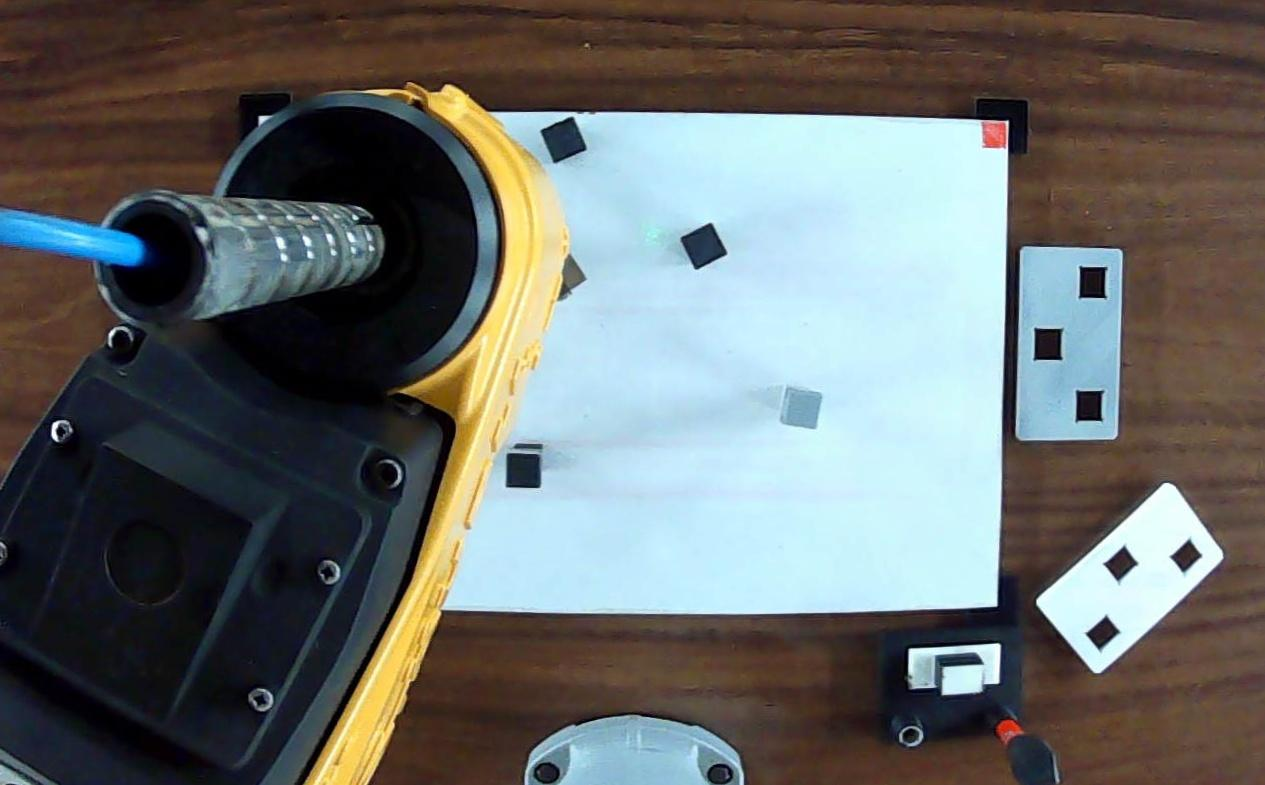pecaCinza: (776, 380, 827, 434)
pecaPreta: (503, 440, 553, 492), (677, 222, 730, 271), (540, 118, 594, 164)
